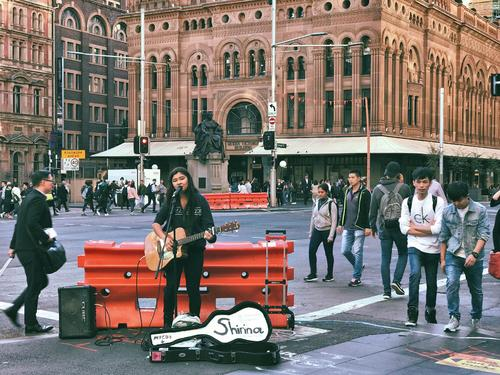no_mask: (165, 164, 192, 196), (445, 179, 472, 211), (30, 167, 55, 197), (410, 167, 430, 197), (347, 167, 360, 189), (315, 184, 330, 202)
